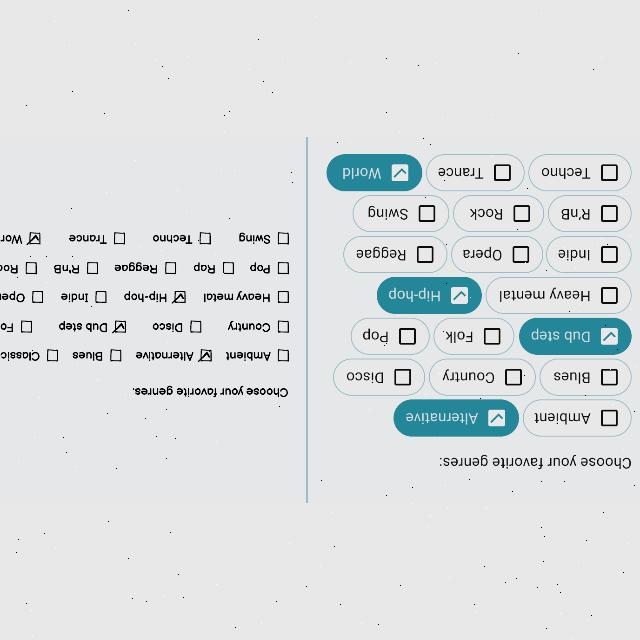QLabel: (436, 455, 632, 471), (132, 384, 290, 400), (498, 288, 592, 302), (406, 411, 478, 425), (530, 326, 592, 342), (388, 285, 442, 303), (442, 368, 494, 384), (356, 245, 408, 261), (534, 411, 592, 425), (540, 165, 592, 179), (135, 349, 193, 361), (366, 204, 409, 220), (203, 292, 271, 302), (436, 166, 484, 180), (462, 246, 503, 262), (346, 370, 384, 386), (226, 321, 272, 334), (59, 321, 108, 333), (342, 166, 382, 180), (557, 246, 591, 262), (553, 370, 591, 384), (123, 290, 167, 302), (114, 262, 158, 274), (68, 232, 108, 245), (444, 328, 476, 344), (152, 233, 194, 245), (468, 206, 504, 220), (0, 350, 40, 362), (226, 350, 272, 360), (562, 207, 592, 221), (363, 327, 389, 343), (238, 232, 272, 244), (72, 350, 104, 362), (0, 289, 26, 303), (152, 321, 184, 332), (61, 292, 89, 304), (54, 262, 80, 274), (250, 262, 272, 274), (0, 232, 22, 244), (192, 262, 216, 272), (1, 262, 20, 274), (0, 322, 14, 332)
VCheckbox: (600, 408, 620, 428), (390, 162, 410, 182), (25, 230, 45, 248), (600, 326, 618, 346), (450, 285, 468, 305), (599, 164, 619, 182), (512, 245, 530, 265), (512, 204, 532, 222), (492, 164, 512, 182), (416, 244, 434, 264), (505, 368, 523, 387), (393, 368, 411, 387), (601, 368, 619, 387), (488, 409, 506, 427), (398, 327, 416, 345), (600, 286, 618, 304), (600, 245, 618, 263), (600, 204, 618, 222), (418, 204, 436, 222), (484, 326, 501, 344), (109, 348, 128, 364), (171, 289, 189, 305), (221, 259, 237, 277), (276, 316, 290, 336), (276, 259, 292, 275), (197, 348, 215, 362), (276, 348, 290, 364), (44, 348, 60, 362), (94, 288, 108, 304), (111, 320, 127, 334), (277, 288, 291, 304), (275, 231, 291, 245), (198, 230, 212, 246), (19, 321, 35, 334), (86, 260, 100, 274), (188, 319, 202, 333), (112, 231, 126, 245), (24, 261, 38, 275), (164, 261, 176, 275), (31, 290, 43, 304)
